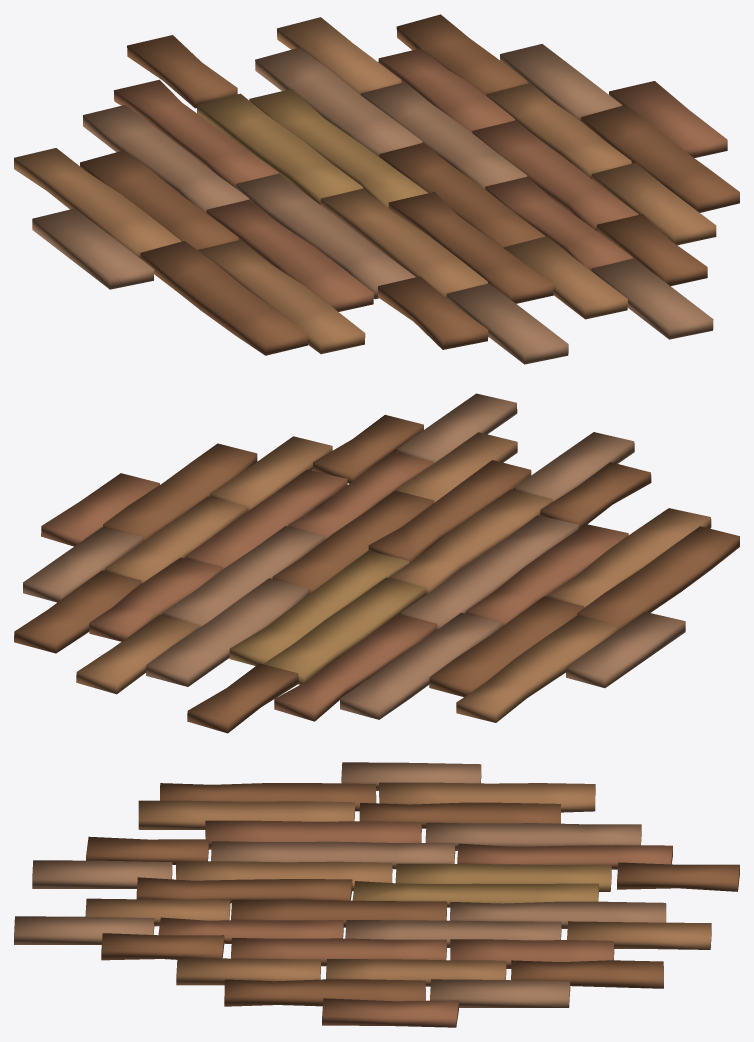
File: floor.gltf
3 renders of one model, top to bottom at view 1: azimuth 30°, elevation 25°; view 2: azimuth 150°, elevation 25°; view 3: azimuth 270°, elevation 25°, orthographic. The views are drawn at different scales.
Visible parts, largest first — view 1: floor; view 2: floor; view 3: floor.
Boxes of the visible parts, left/top/right/bottom form: floor: left=14, top=14, right=739, bottom=364; floor: left=14, top=393, right=739, bottom=733; floor: left=14, top=762, right=739, bottom=1027.
Bounding box in the file's own units: 8.82 × 0.2406 × 10.58.
